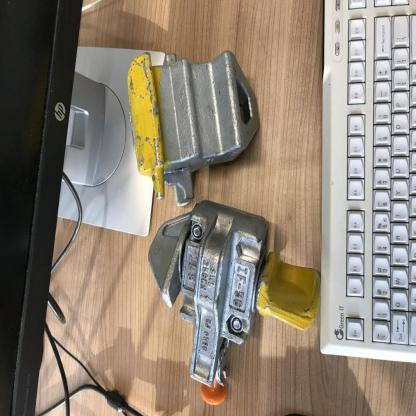Twistlock: (144, 198, 326, 408), (119, 40, 269, 206)
